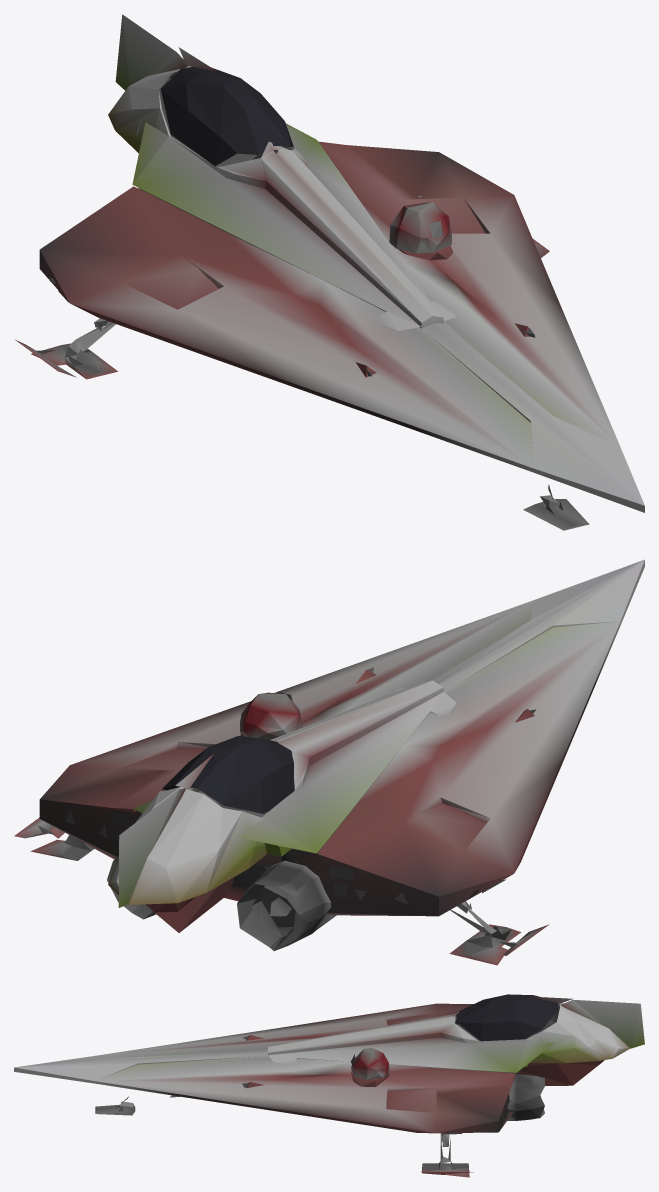
File: delta7.glb
3 renders of one model, top to bottom at view 1: azimuth 30°, elevation 25°; view 2: azimuth 150°, elevation 25°; view 3: azimuth 270°, elevation 25°, orthographic. The views are drawn at different scales.
Parts seen in each view (by area): view 1: delta7; view 2: delta7; view 3: delta7.
Boxes of the visible parts, x1,y1,x2,y2 form: delta7: (15, 14, 644, 530); delta7: (14, 559, 644, 965); delta7: (14, 994, 644, 1177).
Size of the model in its own units: 6.42 by 2.39 by 11.92.
